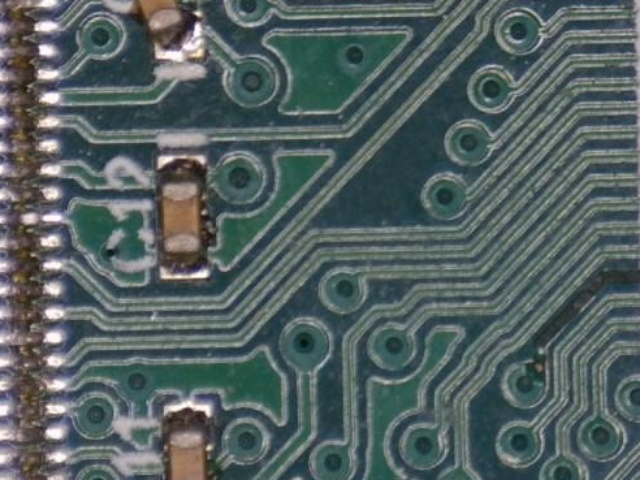pcb_defect: (126, 0, 205, 58)
